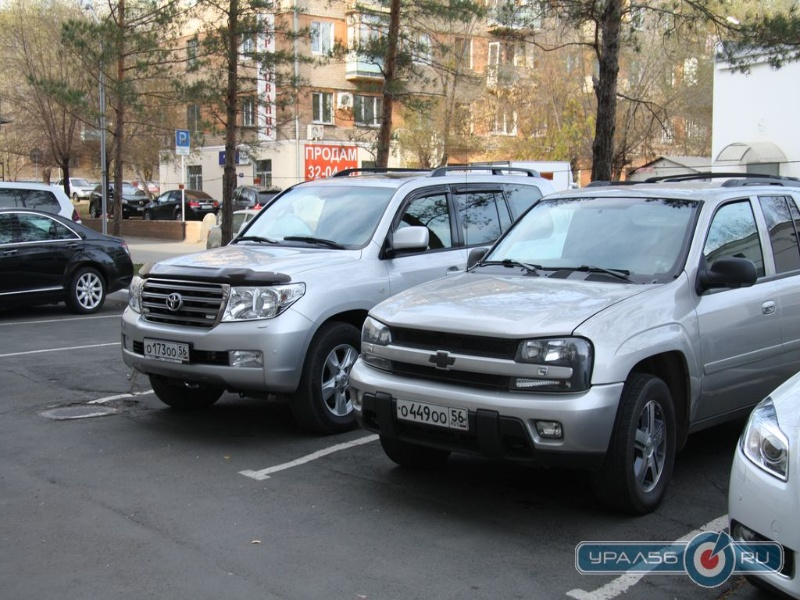car: (350, 173, 800, 511), (120, 165, 557, 425), (726, 372, 800, 600), (1, 208, 133, 318), (1, 180, 81, 226), (145, 188, 219, 218), (89, 182, 150, 218), (232, 184, 283, 209), (57, 178, 95, 201)
plate: (397, 398, 468, 430), (143, 339, 188, 361)
